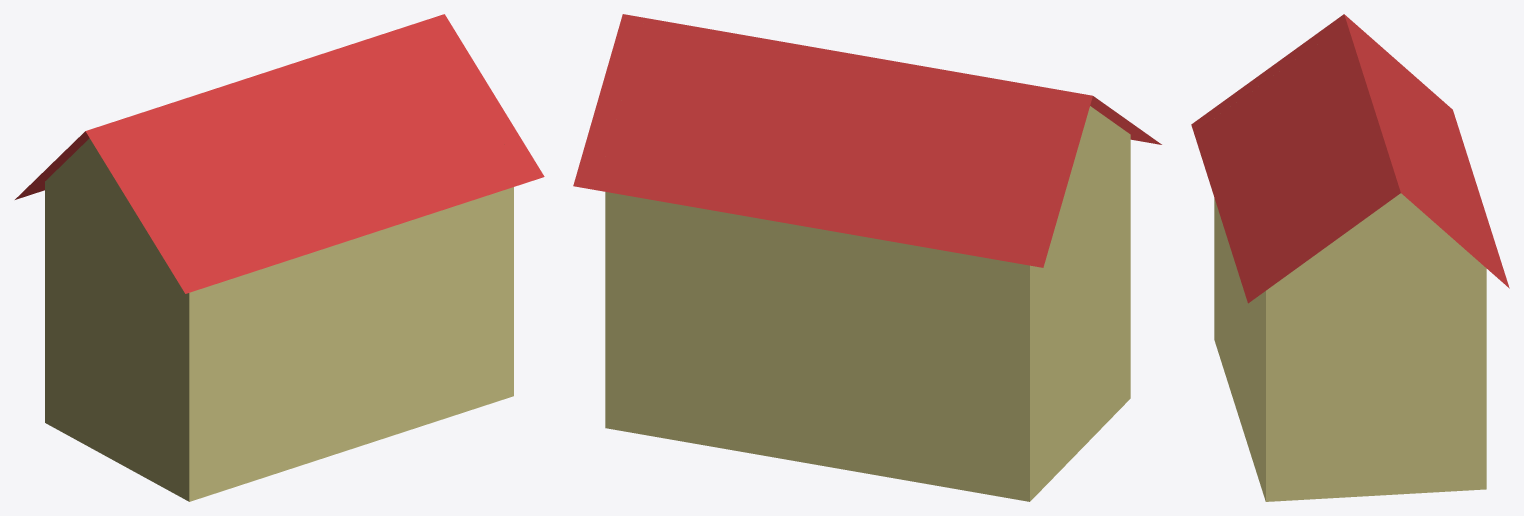
The picture shows the model from 3 angles, left to right: view 1: azimuth 30°, elevation 25°; view 2: azimuth 150°, elevation 25°; view 3: azimuth 270°, elevation 25°; orthographic projection. The views are drawn at different scales.
Bounding box in the file's own units: 11.1 × 7.71 × 8.28.
